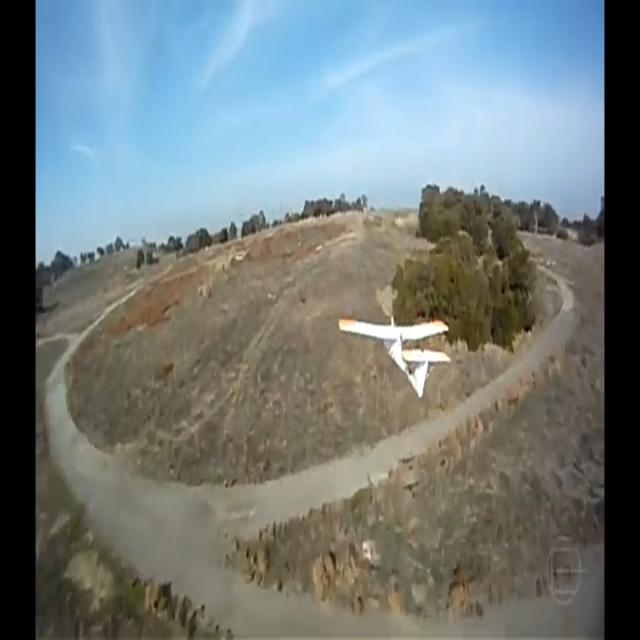iha: (364, 345, 414, 373)
